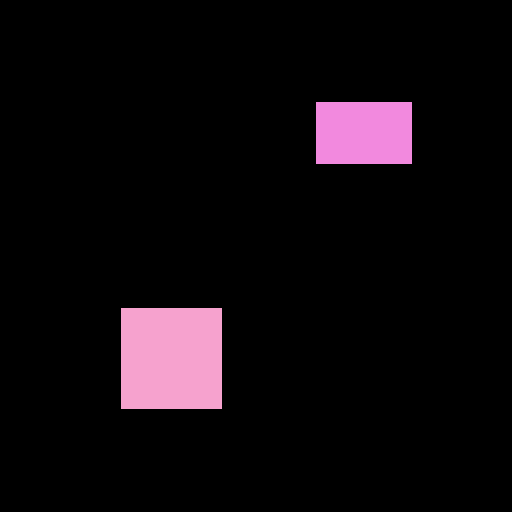rectangle: (316, 102, 411, 163)
square: (121, 308, 221, 408)
